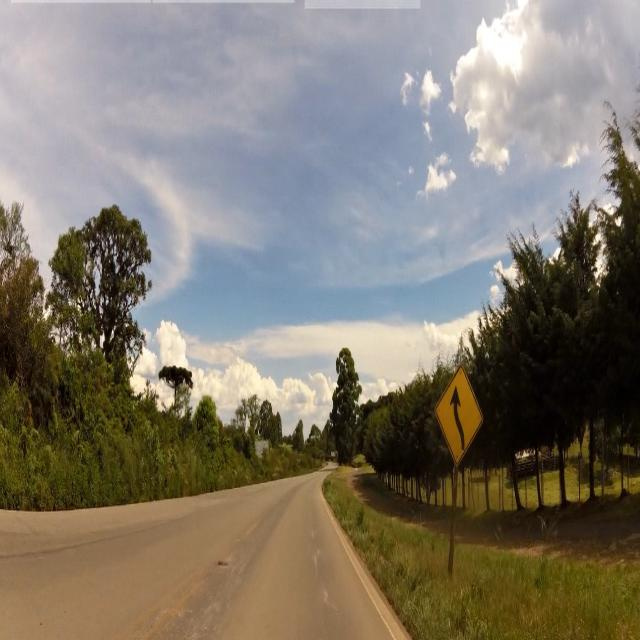A-5a: (429, 360, 480, 478)
